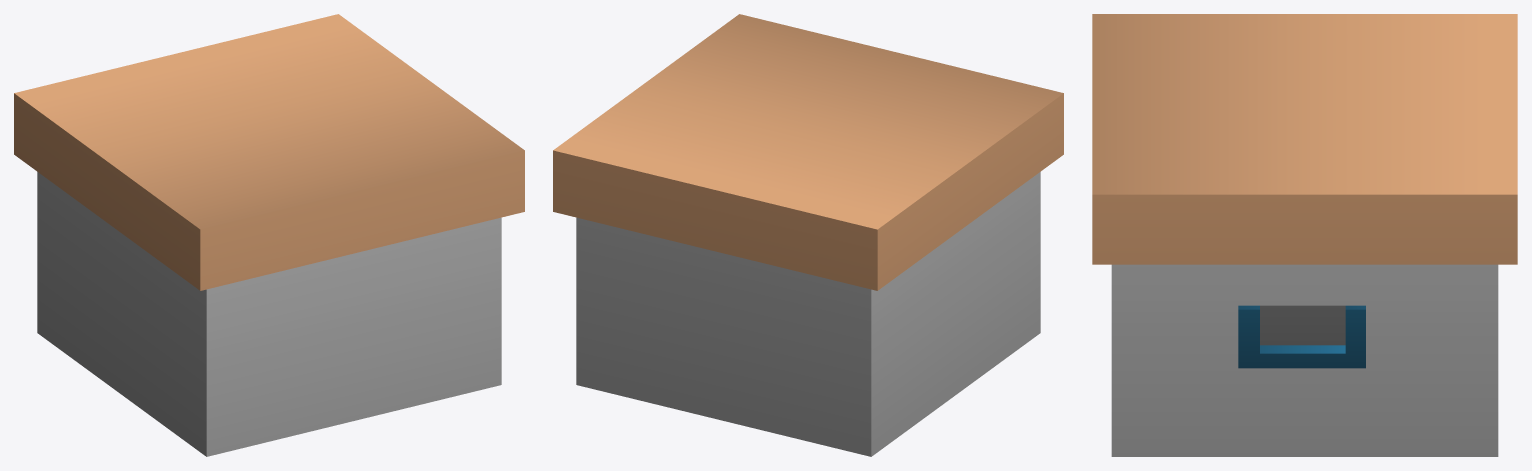
The model's file is mesa.fbx.
3 renders of one model, left to right at view 1: azimuth 30°, elevation 25°; view 2: azimuth 150°, elevation 25°; view 3: azimuth 270°, elevation 25°, orthographic. The views are drawn at different scales.
Visible parts, largest first — view 1: Mesa; view 2: Mesa; view 3: Mesa.
Boxes of the visible parts, x1,y1,x2,y2 form: Mesa: (14, 14, 524, 456); Mesa: (553, 14, 1063, 456); Mesa: (1092, 14, 1517, 456).
Bounding box in the file's own units: 22.12 × 15.45 × 22.01.
